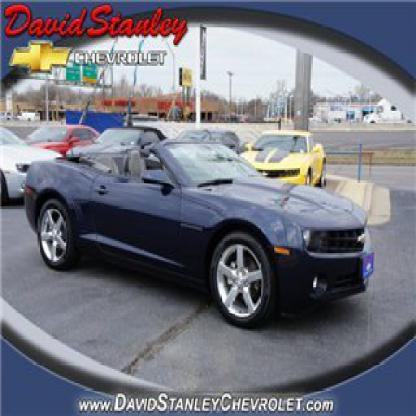car: (18, 132, 380, 338)
